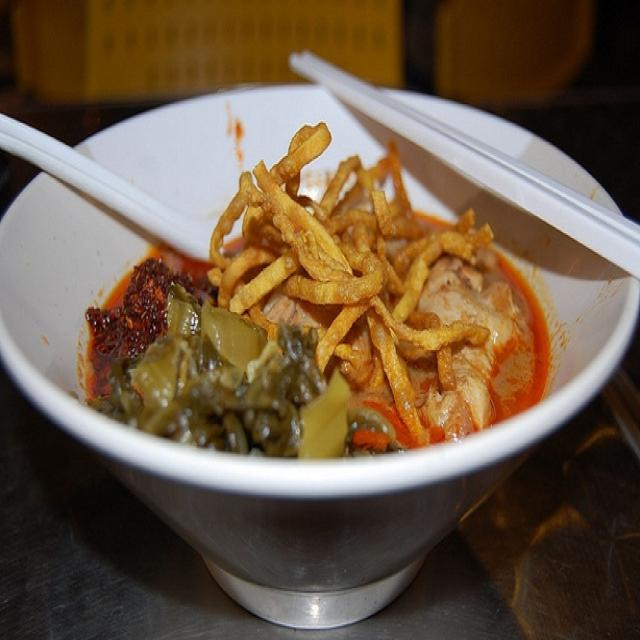面条主食: (25, 60, 630, 602)
